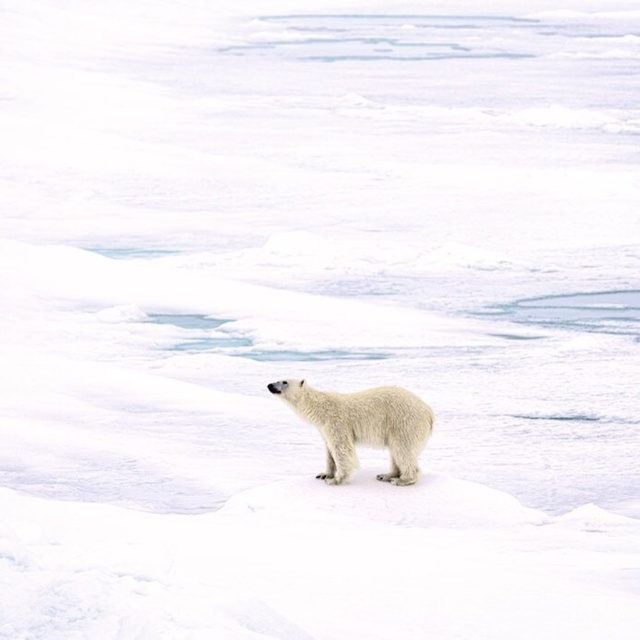Polar bear: (263, 377, 434, 483)
